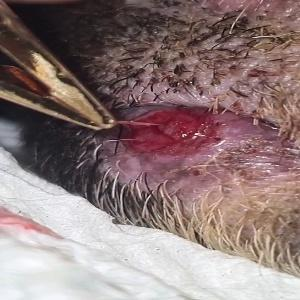skin_lesions: (112, 101, 219, 157)
